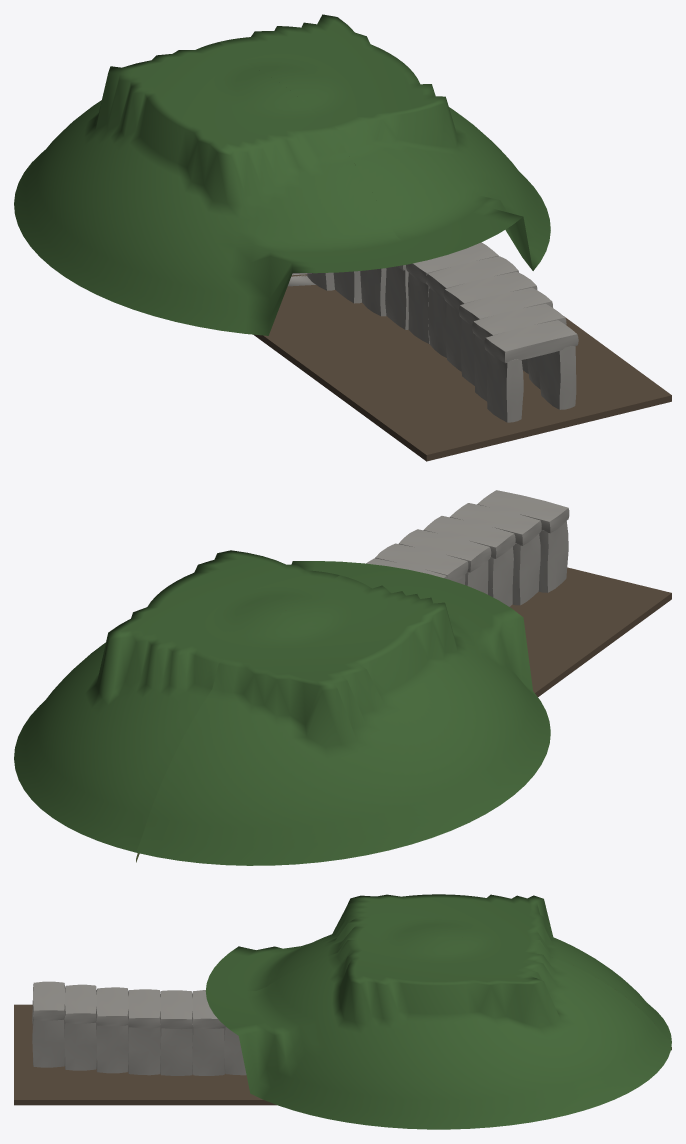
File: carn_euny.glb
The picture shows the model from 3 angles, top to bottom: view 1: azimuth 30°, elevation 25°; view 2: azimuth 150°, elevation 25°; view 3: azimuth 270°, elevation 25°; orthographic projection. The views are drawn at different scales.
Visible parts, largest first — view 1: carn_mound_west, carn_mound_east, carn_floor, carn_stones; view 2: carn_mound_west, carn_mound_east, carn_stones, carn_floor; view 3: carn_mound_east, carn_stones, carn_mound_west, carn_floor.
Boxes of the visible parts, <box> form: carn_mound_west: <box>14,42,428,335</box>; carn_mound_east: <box>219,14,550,270</box>; carn_floor: <box>253,274,671,461</box>; carn_stones: <box>288,242,578,422</box>; carn_mound_west: <box>136,574,550,865</box>; carn_mound_east: <box>14,550,428,856</box>; carn_stones: <box>366,490,569,606</box>; carn_floor: <box>510,567,671,696</box>; carn_mound_east: <box>205,936,671,1129</box>; carn_stones: <box>32,981,246,1075</box>; carn_mound_west: <box>206,894,671,1050</box>; carn_floor: <box>14,1004,276,1105</box>.
Size of the model in its own units: 10.99 by 3.55 by 17.5.
